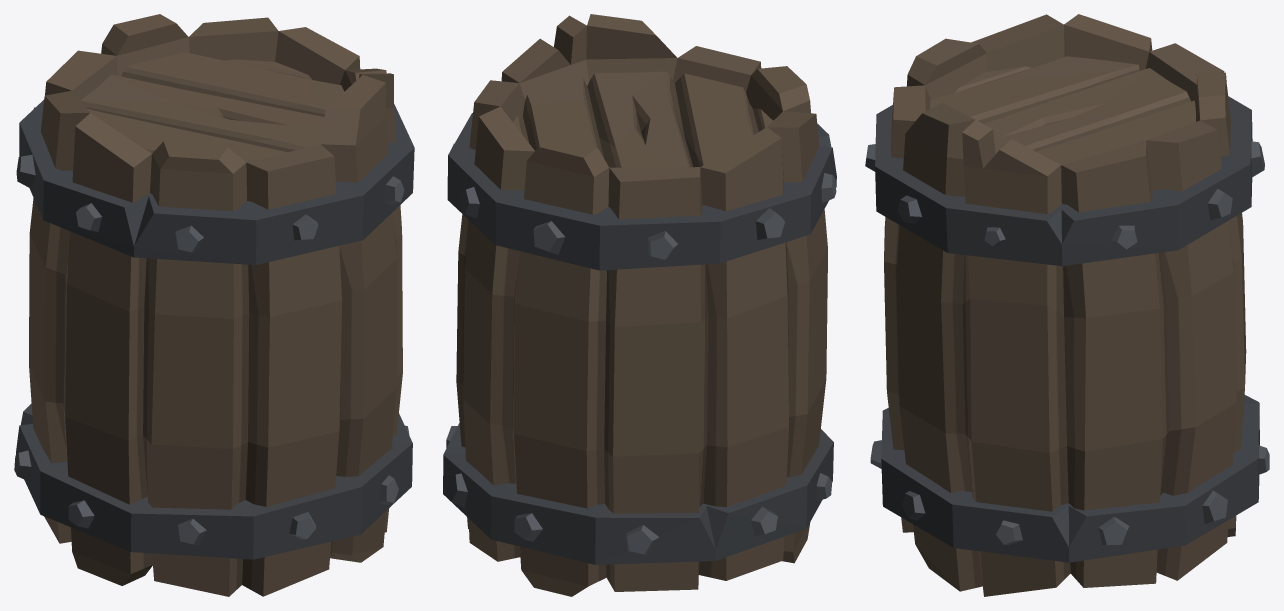
The model's file is Prop_Barrel_Wood_03.glb.
3 renders of one model, left to right at view 1: azimuth 30°, elevation 25°; view 2: azimuth 150°, elevation 25°; view 3: azimuth 270°, elevation 25°, orthographic.
Visible parts, largest first — view 1: SM_Gen_Prop_Barrel_Wood_03; view 2: SM_Gen_Prop_Barrel_Wood_03; view 3: SM_Gen_Prop_Barrel_Wood_03.
Part boxes in pixels (box(x1,y1,x2,y2)): SM_Gen_Prop_Barrel_Wood_03: box(14, 14, 414, 596); SM_Gen_Prop_Barrel_Wood_03: box(443, 14, 836, 596); SM_Gen_Prop_Barrel_Wood_03: box(865, 14, 1269, 596).
Bounding box in the file's own units: 0.7337 × 0.9515 × 0.7492.
1 material, 1 textured.
